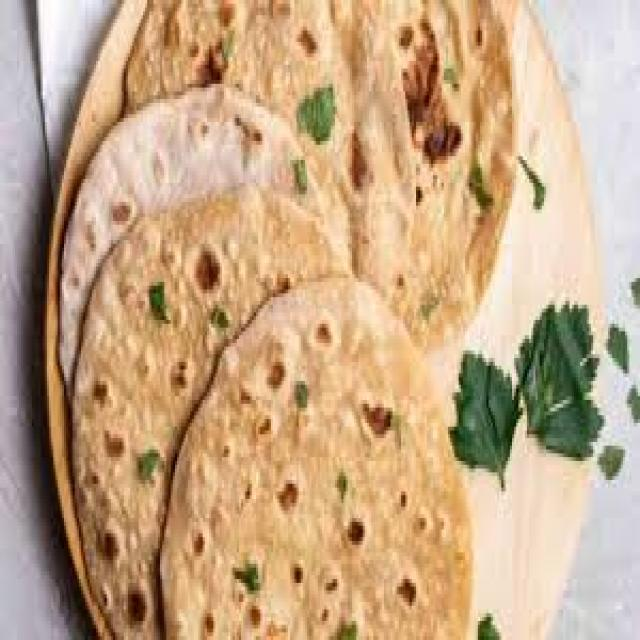ROTI: (72, 188, 345, 636), (158, 276, 478, 636), (125, 0, 419, 296), (56, 93, 322, 385), (380, 2, 518, 343)
